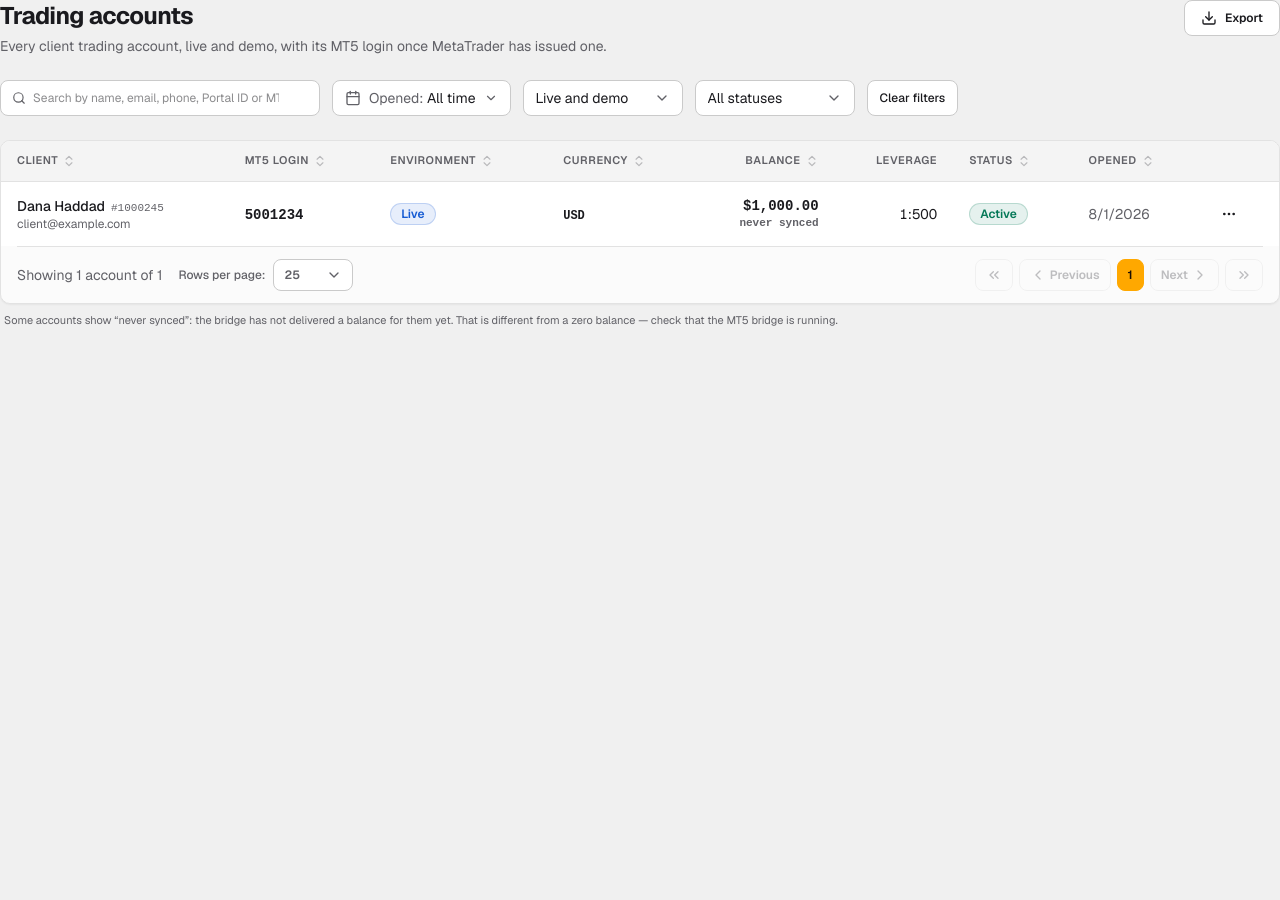
Test case: moving money on a trading account › disables the withdraw direction without trading.withdraw
Expected: the text "client@example.com" is shown, [17, 216, 131, 232]
Click the button named "actions for account". click: (1229, 214)
box: [1213, 198, 1245, 230]
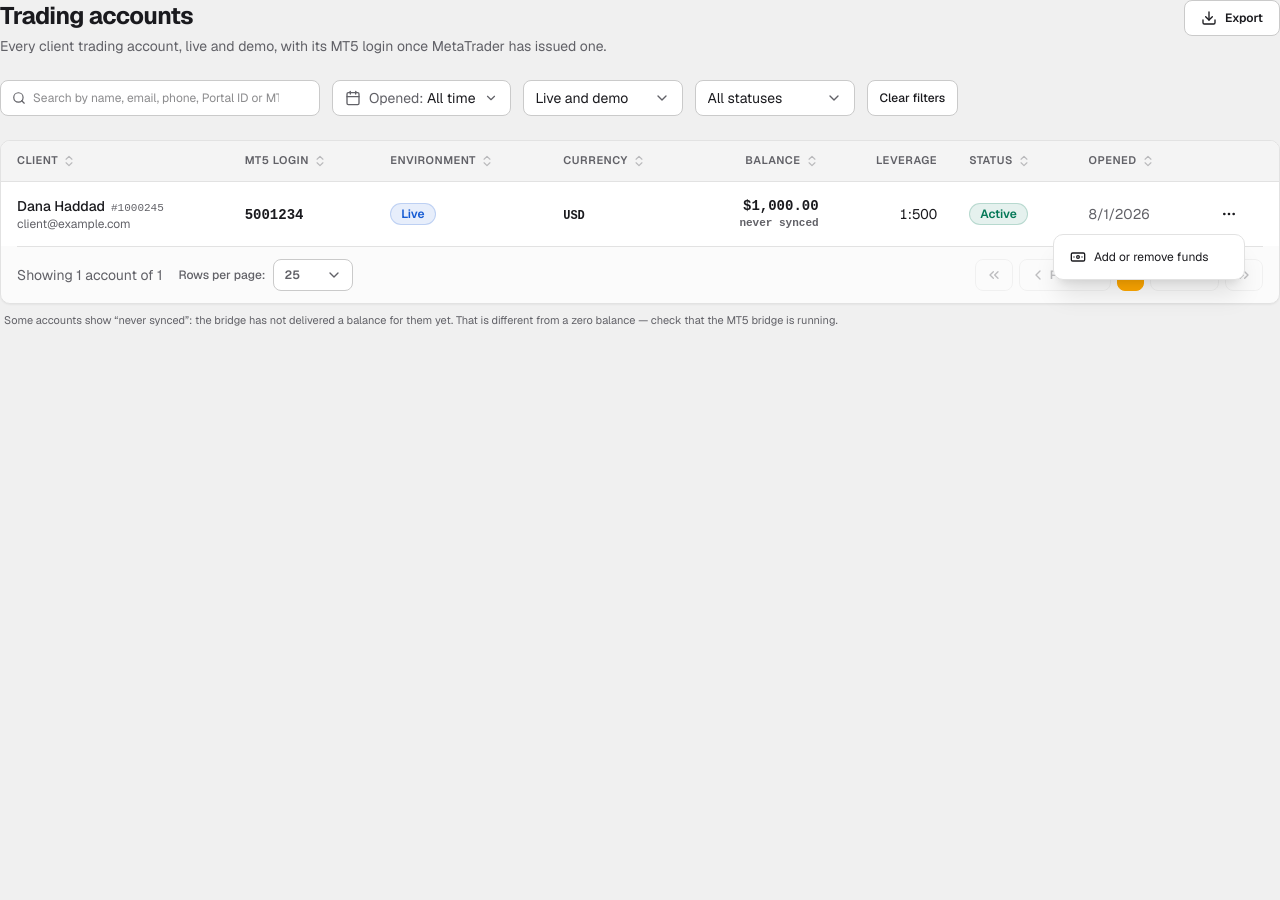
Click the menu item "Add or remove funds". click: (1139, 257)
box: [1070, 249, 1208, 265]
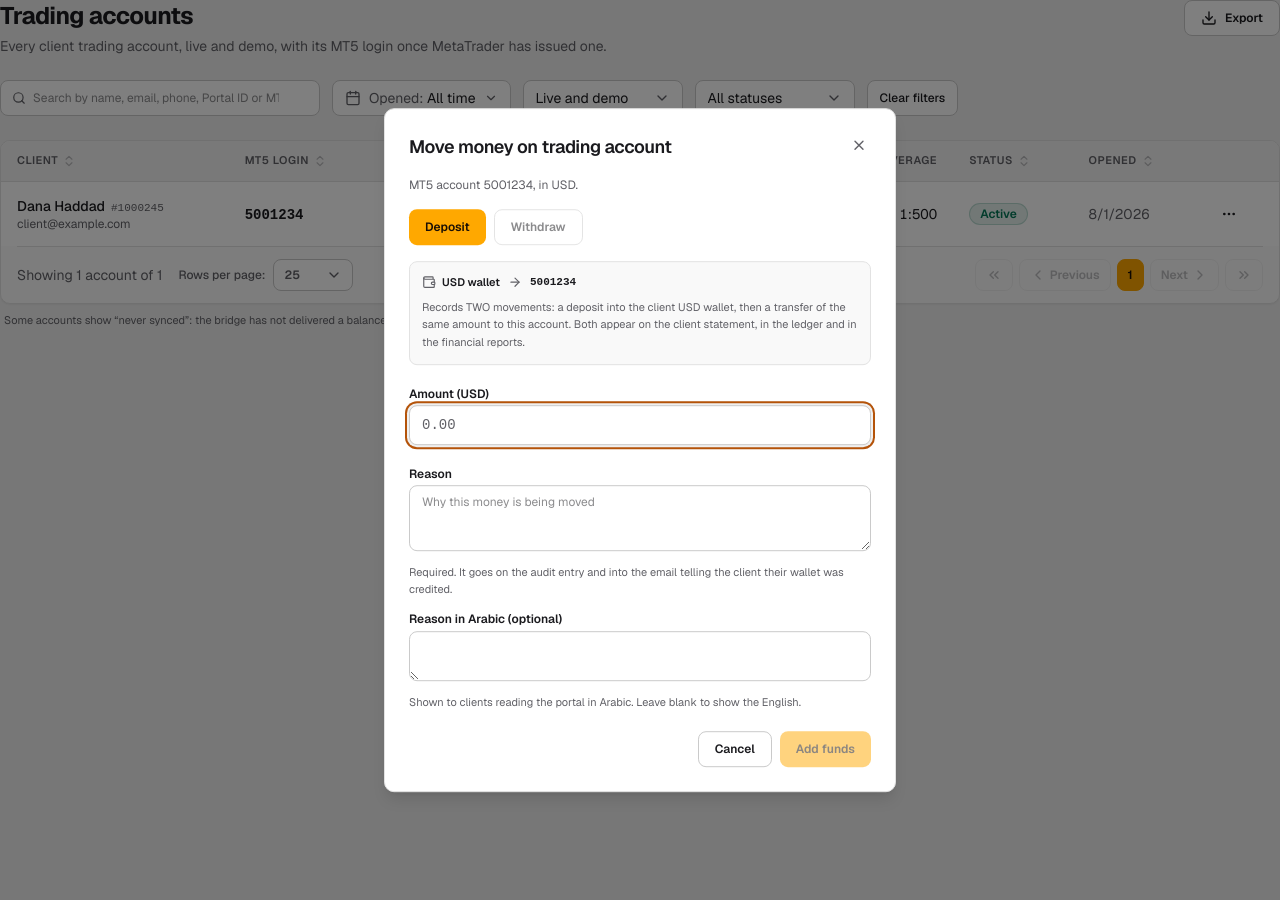
Now the button "Withdraw" is disabled, box [494, 209, 583, 245]
Now the button "Deposit" is enabled, box [409, 209, 486, 245]
